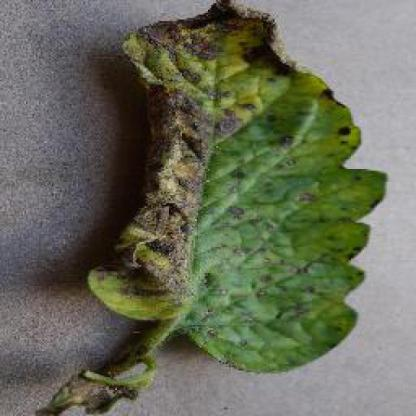Tomato_Blight: (85, 0, 384, 369)
